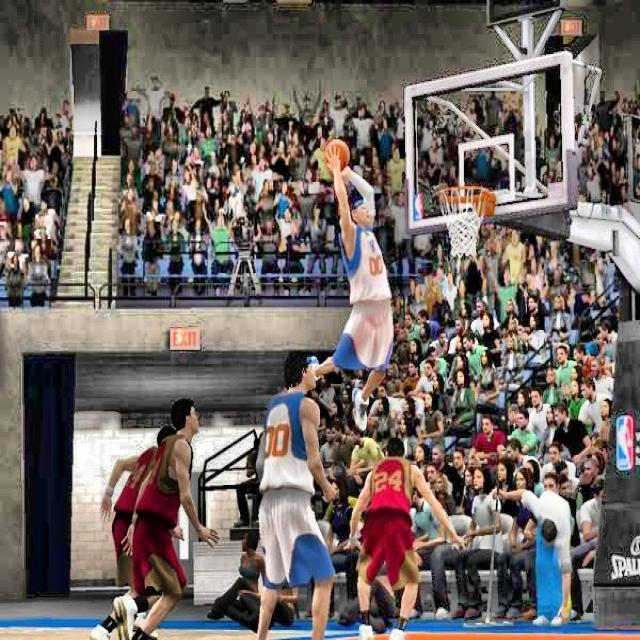rim: (438, 186, 492, 258)
